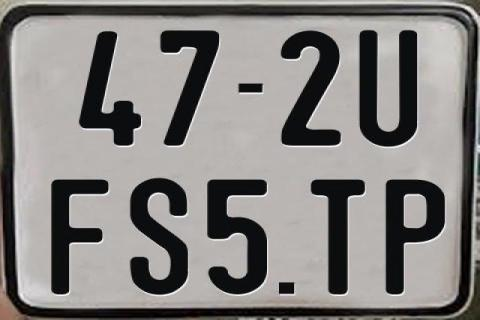0: (76, 31, 140, 149), (158, 31, 222, 149), (206, 179, 270, 297), (281, 30, 343, 146)
F: (49, 178, 111, 294)
P: (383, 177, 444, 296)
S: (127, 177, 188, 295)
T: (310, 177, 365, 292)
U: (359, 30, 421, 150)
